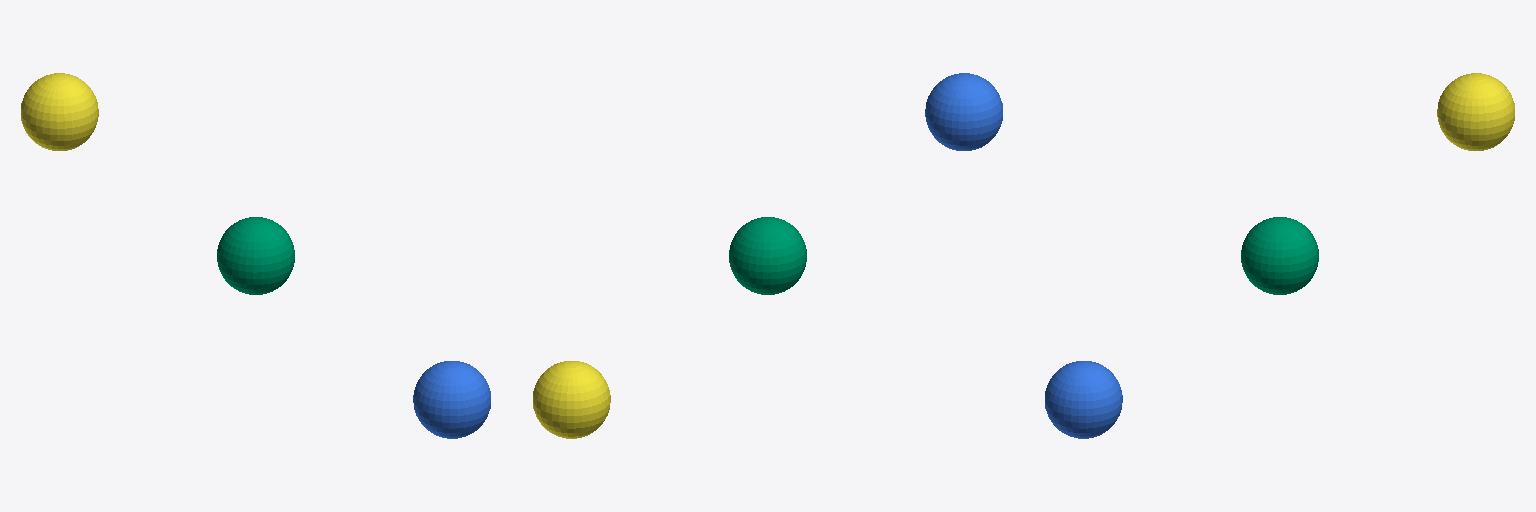
The robot description file, URDF, robot "pendulum":
<?xml version="1.0" encoding="utf-8"?>
<robot name="pendulum">
  <!--
  Author: [author] <[email redacted]>
  Contributers:
-->
  
  <link name="world"/>
  <material name="Blue">
    <color rgba="0.28 0.52 0.92 1.0"/>
  </material>
  <link name="link0">
    <visual>
      <geometry>
        <sphere radius="0.05"/>
      </geometry>
      <origin rpy="0 0 0" xyz="0 0.5 0"/>
      <material name="Blue"/>
    </visual>
    <collision>
      <geometry>
        <sphere radius="0.05"/>
      </geometry>
      <origin rpy="0 0 0" xyz="0 0.5 0"/>
    </collision>
    <inertial>
      <origin rpy="0 0 0" xyz="0.0 0.5 0"/>
      <mass value="1."/>
      <inertia ixx="0.00494875" ixy="0" ixz="0" iyy="0.00494174" iyz="0" izz="0.002219"/>
    </inertial>
  </link>
  <joint name="joint0" type="continuous">
    <parent link="world"/>
    <child link="link0"/>
    <origin rpy="0 0 0" xyz="0 0 0"/>
    <axis xyz="1 0 0"/>
    <dynamics damping="1.0" friction="1.0"/>
  </joint>
  <link name="link1">
    <visual>
      <geometry>
        <sphere radius="0.05"/>
      </geometry>
      <origin rpy="0 0 0" xyz="0 0.5 0"/>
      <material name="Red"/>
    </visual>
    <collision>
      <geometry>
        <sphere radius="0.05"/>
      </geometry>
      <origin rpy="0 0 0" xyz="0 0.5 0"/>
    </collision>
    <inertial>
      <origin rpy="0 0 0" xyz="0 0.5 0"/>
      <mass value="2.16"/>
      <inertia ixx="0.00539427" ixy="0" ixz="0" iyy="0.0048979" iyz="0" izz="0.00311573"/>
    </inertial>
  </link>
  <joint name="joint1" type="continuous">
    <parent link="link0"/>
    <child link="link1"/>
    <origin rpy="0 0 0" xyz="0 0.5 0"/>
    <axis xyz="1 0 0"/>
    <dynamics damping="1.0" friction="1.0"/>
  </joint>
 <link name="link2">
    <visual>
      <geometry>
        <sphere radius="0.05"/>
      </geometry>
      <origin rpy="0 0 0" xyz="0 0.5 0"/>
      <material name="Red"/>
    </visual>
    <collision>
      <geometry>
        <sphere radius="0.05"/>
      </geometry>
      <origin rpy="0 0 0" xyz="0 0.5 0"/>
    </collision>
    <inertial>
      <origin rpy="0 0 0" xyz="0 0.5 0"/>
      <mass value="2.16"/>
      <inertia ixx="0.00539427" ixy="0" ixz="0" iyy="0.0048979" iyz="0" izz="0.00311573"/>
    </inertial>
  </link>
  <joint name="joint2" type="continuous">
    <parent link="link1"/>
    <child link="link2"/>
    <origin rpy="0 0 0" xyz="0 0.5 0"/>
    <axis xyz="1 0 0"/>
    <dynamics damping="1.0" friction="1.0"/>
  </joint>

 <link name="link-1">
    <visual>
      <geometry>
        <sphere radius="0.05"/>
      </geometry>
      <origin rpy="0 0 0" xyz="0 0. 0"/>
      <material name="Red"/>
    </visual>
    <inertial>
      <origin rpy="0 0 0" xyz="0 0. 0"/>
      <mass value="0.01"/>
      <inertia ixx="0.0001" ixy="0" ixz="0" iyy="0.0001" iyz="0" izz="0.0001"/>
    </inertial>
  </link>
  <joint name="jointfix" type="fixed">
    <parent link="link2"/>
    <child link="link-1"/>
    <dynamics damping="1.0" friction="0.0001"/>
    <origin rpy="0.00000 -0.00000 0.00000" xyz="0 0.5 0"/>
    <axis xyz="0.00000 0.00000 0.00000"/>
  </joint>
</robot>

--- What the picture shows (computed from the rendered views, not written in the file) ---
The picture shows the robot from 3 angles, left to right: view 1: azimuth 30°, elevation 25°; view 2: azimuth 150°, elevation 25°; view 3: azimuth 330°, elevation 25°; orthographic projection.
Model pendulum with 5 links and 4 joints (3 continuous, 1 fixed), rooted at world, posed every joint at zero.
Visible links, largest first — view 1: link1, link0, link2; view 2: link1, link0, link2; view 3: link1, link0, link2.
Link boxes in pixels (x1,y1,x2,y2): link1: (217, 217, 294, 294); link0: (413, 361, 490, 438); link2: (21, 73, 98, 150); link1: (729, 217, 806, 294); link0: (925, 73, 1002, 150); link2: (533, 361, 610, 438); link1: (1241, 217, 1318, 294); link0: (1045, 361, 1122, 438); link2: (1437, 73, 1514, 150).
Size in the robot's own frame: 0.1 by 1.1 by 0.1 metres.
Geometry: primitives only (box / cylinder / sphere), no mesh files.